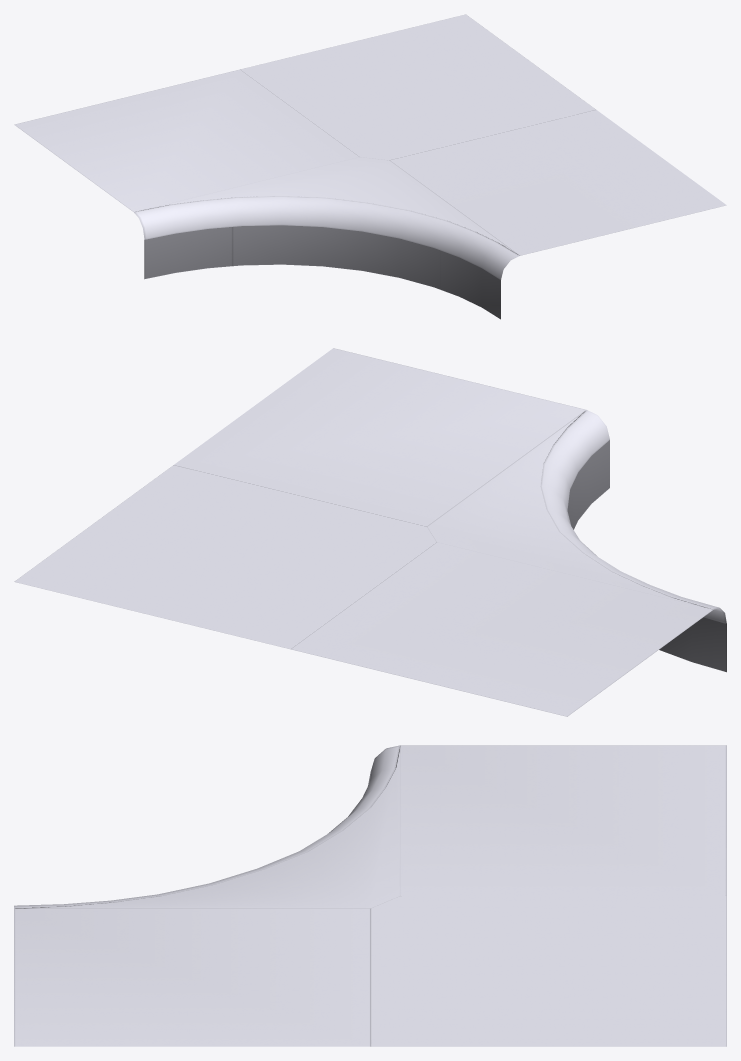
Rendered from Roof_Angle_Large_01.FBX.
3 renders of one model, top to bottom at view 1: azimuth 30°, elevation 25°; view 2: azimuth 150°, elevation 25°; view 3: azimuth 270°, elevation 25°, orthographic. The views are drawn at different scales.
Visible parts, largest first — view 1: Roof_Angle_Large_01; view 2: Roof_Angle_Large_01; view 3: Roof_Angle_Large_01.
Part boxes in pixels (box(x1,y1,x2,y2)): Roof_Angle_Large_01: box(14, 14, 726, 319); Roof_Angle_Large_01: box(14, 348, 726, 716); Roof_Angle_Large_01: box(14, 745, 726, 1046).
Size of the model in its own units: 6 by 0.75 by 6.
1 material, 1 textured.
